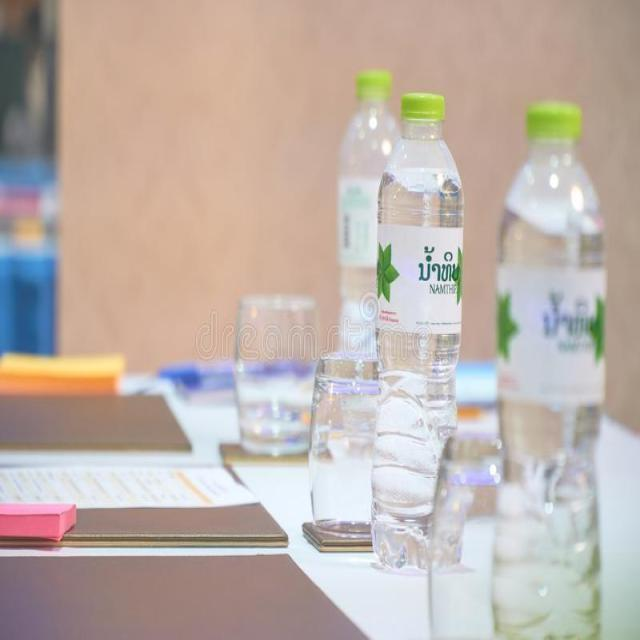bottle: (485, 91, 607, 640), (365, 84, 472, 579), (332, 54, 417, 458)
